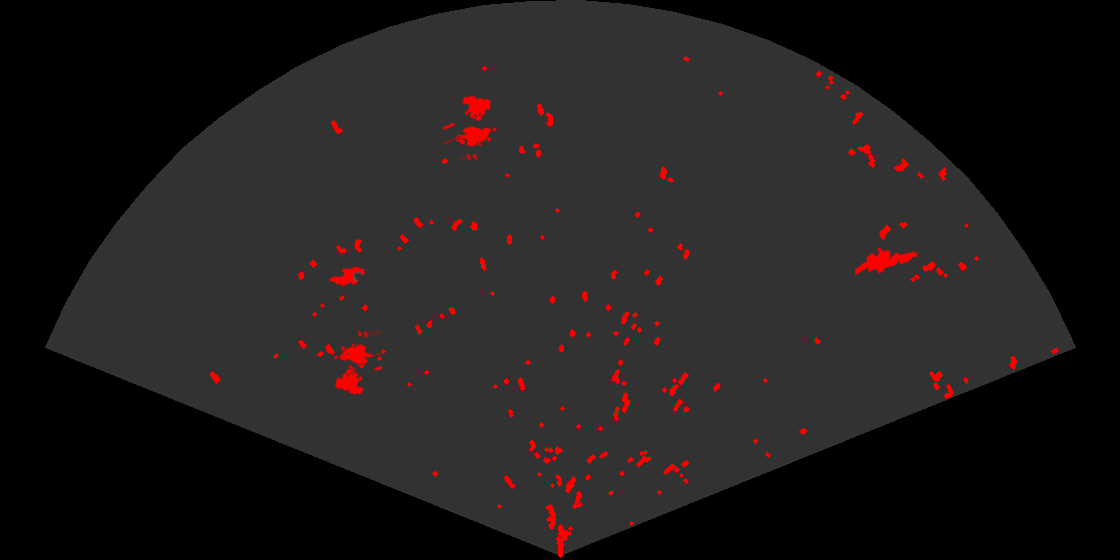AUV: (327, 265, 367, 288)
cage: (443, 94, 498, 160), (332, 331, 382, 396)
frogman: (855, 246, 920, 277)
